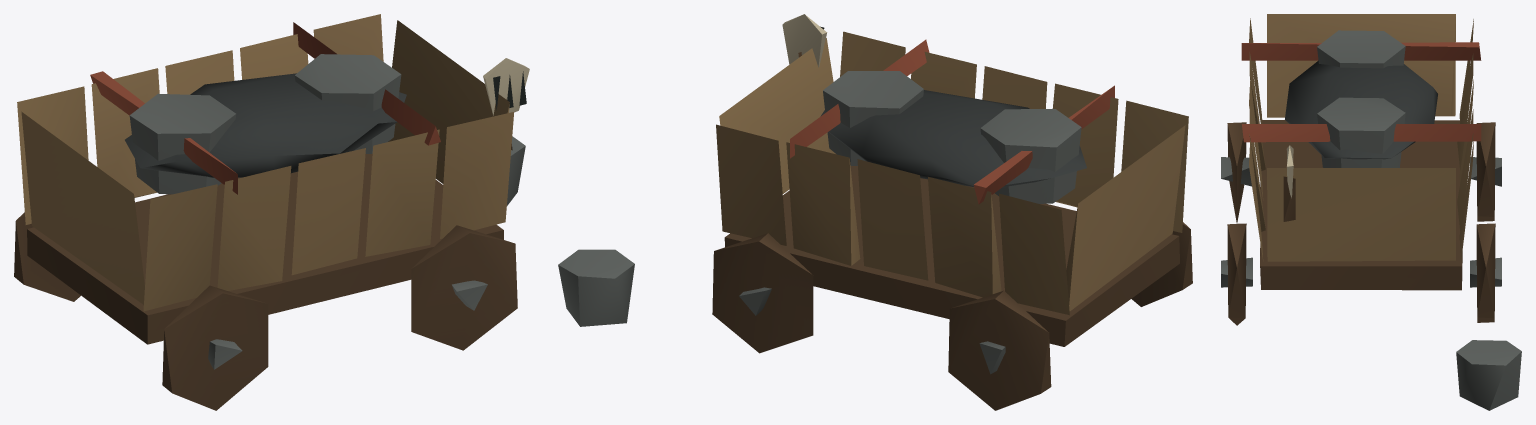
Rendered from tin_cart_a_lod2.glb.
3 views of the same model, side by side, from view 1: azimuth 30°, elevation 25°; view 2: azimuth 150°, elevation 25°; view 3: azimuth 270°, elevation 25° (orthographic). The views are drawn at different scales.
Parts seen in each view (by area): view 1: Surface.001; view 2: Surface.001; view 3: Surface.001.
Boxes of the visible parts, box(x1,y1,x2,y2) form: Surface.001: box(14, 14, 529, 410); Surface.001: box(558, 14, 1192, 410); Surface.001: box(1221, 14, 1521, 410).
Bounding box in the file's own units: 3.13 × 1.47 × 1.89.
